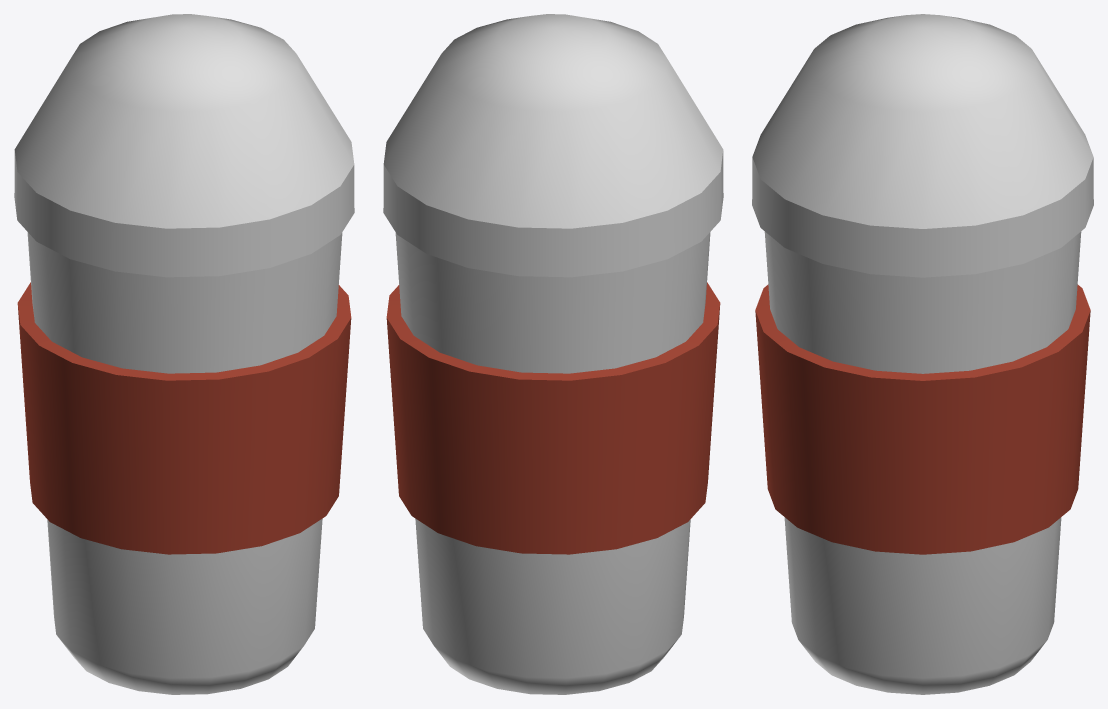
File: cup.fbx
The picture shows the model from 3 angles, left to right: view 1: azimuth 30°, elevation 25°; view 2: azimuth 150°, elevation 25°; view 3: azimuth 270°, elevation 25°; orthographic projection.
Visible parts, largest first — view 1: pCylinder1; view 2: pCylinder1; view 3: pCylinder1.
Part boxes in pixels (left/top/right/bottom): pCylinder1: left=14, top=14, right=354, bottom=694; pCylinder1: left=383, top=14, right=723, bottom=694; pCylinder1: left=752, top=14, right=1093, bottom=694.
Size of the model in its own units: 0.000606 by 0.00121 by 0.000606.
